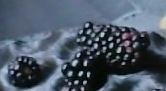berry: (77, 22, 149, 71), (61, 49, 106, 90), (8, 55, 42, 87)
